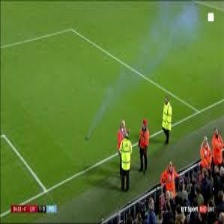smoke: (148, 9, 189, 49)
